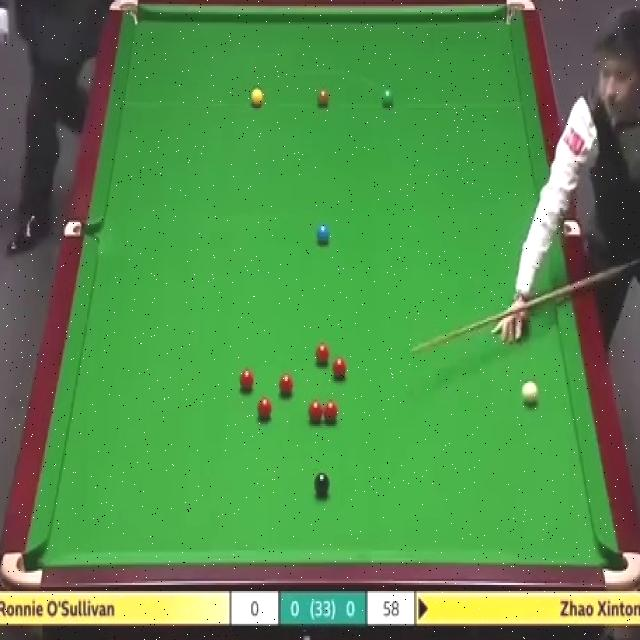black-ball: (314, 474, 331, 498)
blue-ball: (316, 224, 331, 246)
brown-ball: (317, 89, 330, 108)
green-ball: (383, 88, 395, 107)
red-ball: (330, 358, 348, 378), (256, 398, 272, 420), (308, 401, 323, 424), (240, 367, 254, 391), (324, 400, 338, 424), (279, 373, 293, 396), (315, 343, 330, 364)
white-ball: (522, 379, 538, 407)
yellow-ball: (250, 87, 264, 110)
